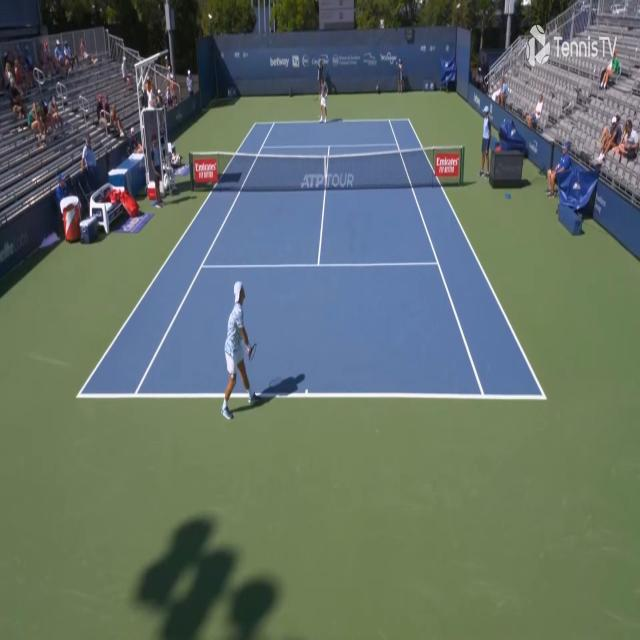tennis-player: (219, 279, 261, 423), (317, 60, 336, 124)
